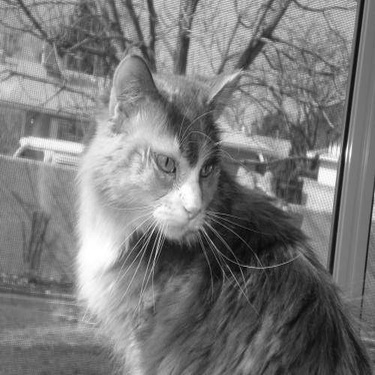cat: (79, 54, 368, 372)
